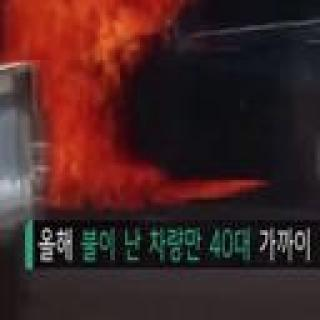fire: (21, 0, 174, 211)
